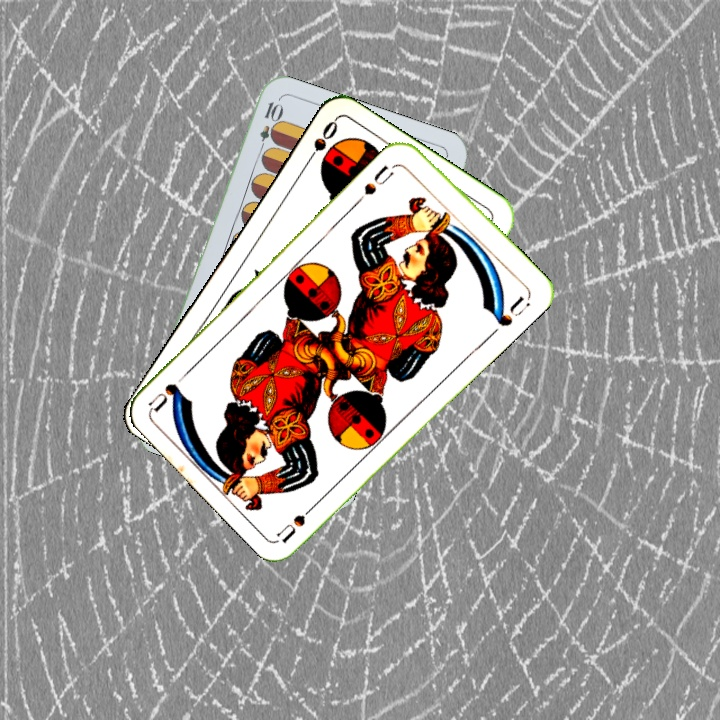E10: (254, 97, 283, 156)
SO: (300, 116, 341, 169)
SU: (274, 495, 323, 545), (354, 159, 402, 205)
